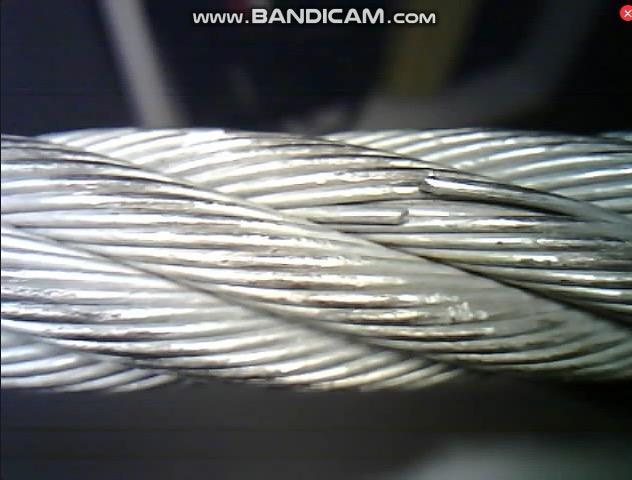break: (375, 165, 460, 245)
